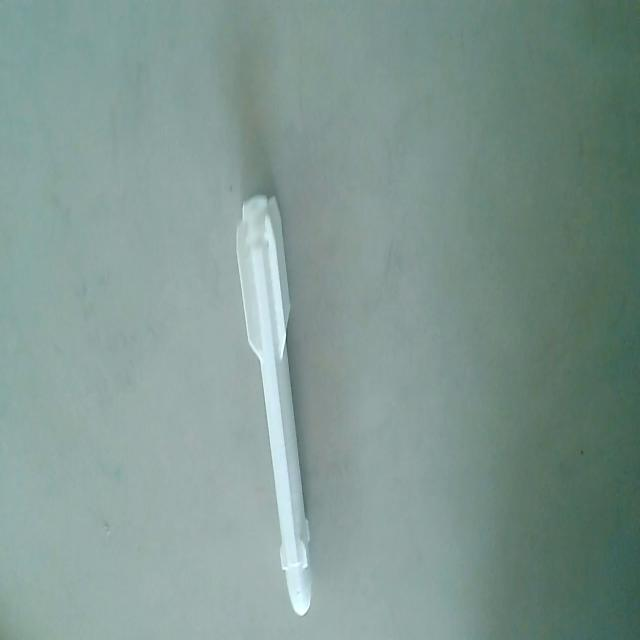Rocket: (235, 189, 314, 623)
